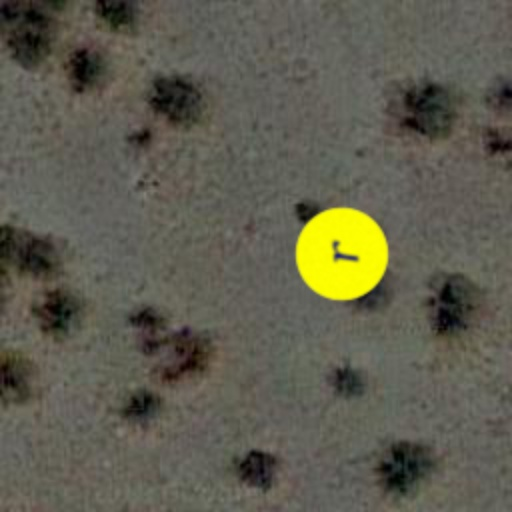circle: (292, 204, 392, 304)
